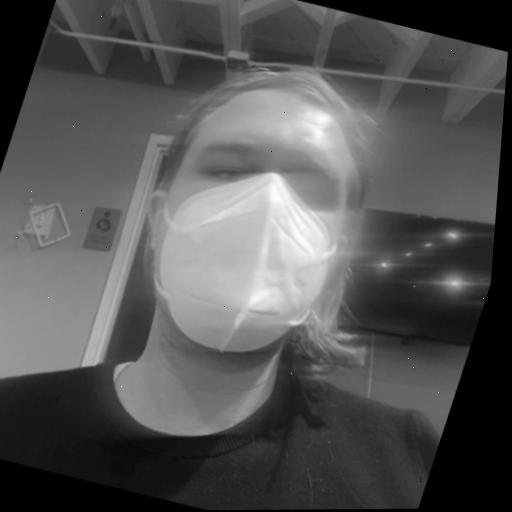mask: (41, 18, 471, 492)
